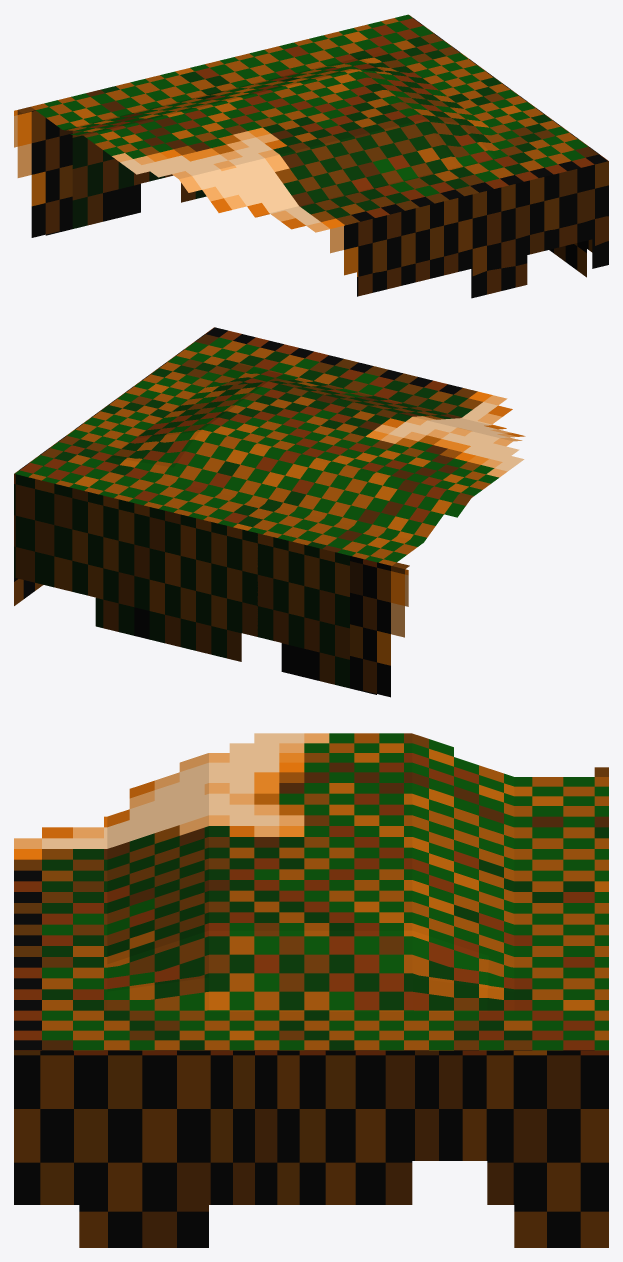
Rendered from bed_696x14.gltf.
The picture shows the model from 3 angles, top to bottom: view 1: azimuth 30°, elevation 25°; view 2: azimuth 150°, elevation 25°; view 3: azimuth 270°, elevation 25°; orthographic projection. The views are drawn at different scales.
Visible parts, largest first — view 1: bed_696x14; view 2: bed_696x14; view 3: bed_696x14.
Boxes of the visible parts, x1=… form: bed_696x14: x1=14, y1=14, x2=608, y2=298; bed_696x14: x1=14, y1=327, x2=525, y2=697; bed_696x14: x1=14, y1=733, x2=608, y2=1247.
Bounding box in the file's own units: 3.64 × 1.37 × 3.2.
1 material, 1 textured.
